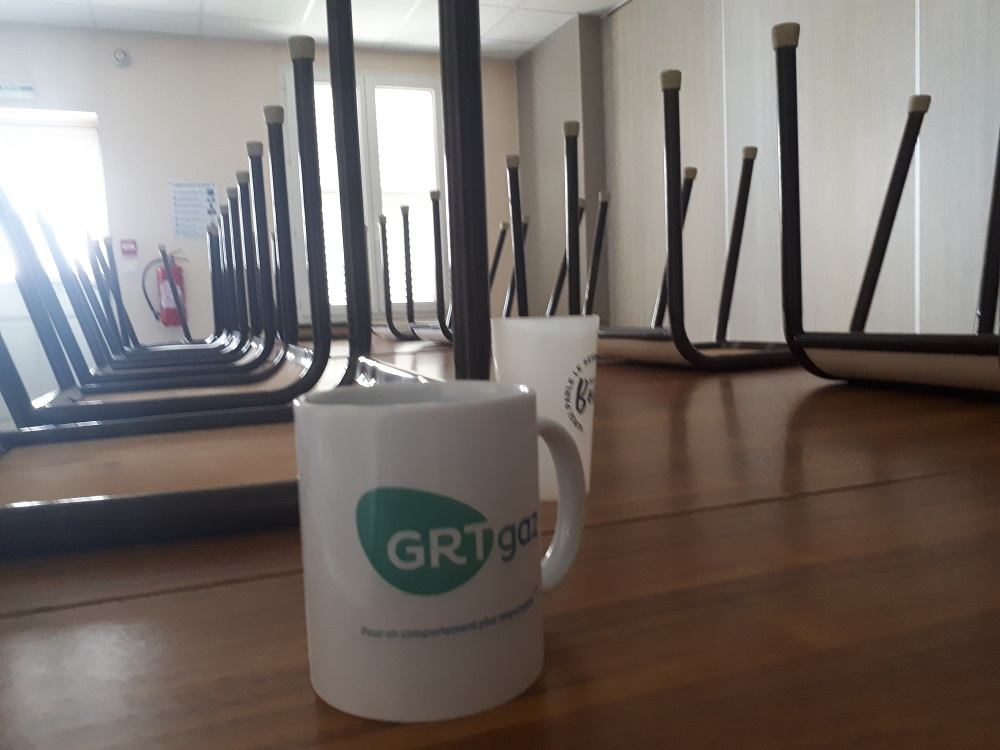ecocup: (485, 311, 600, 508)
